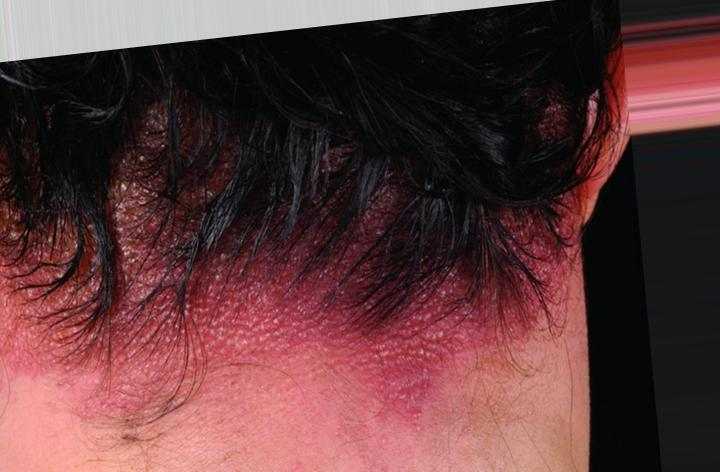Contact Dermatitis: (33, 160, 545, 412)
